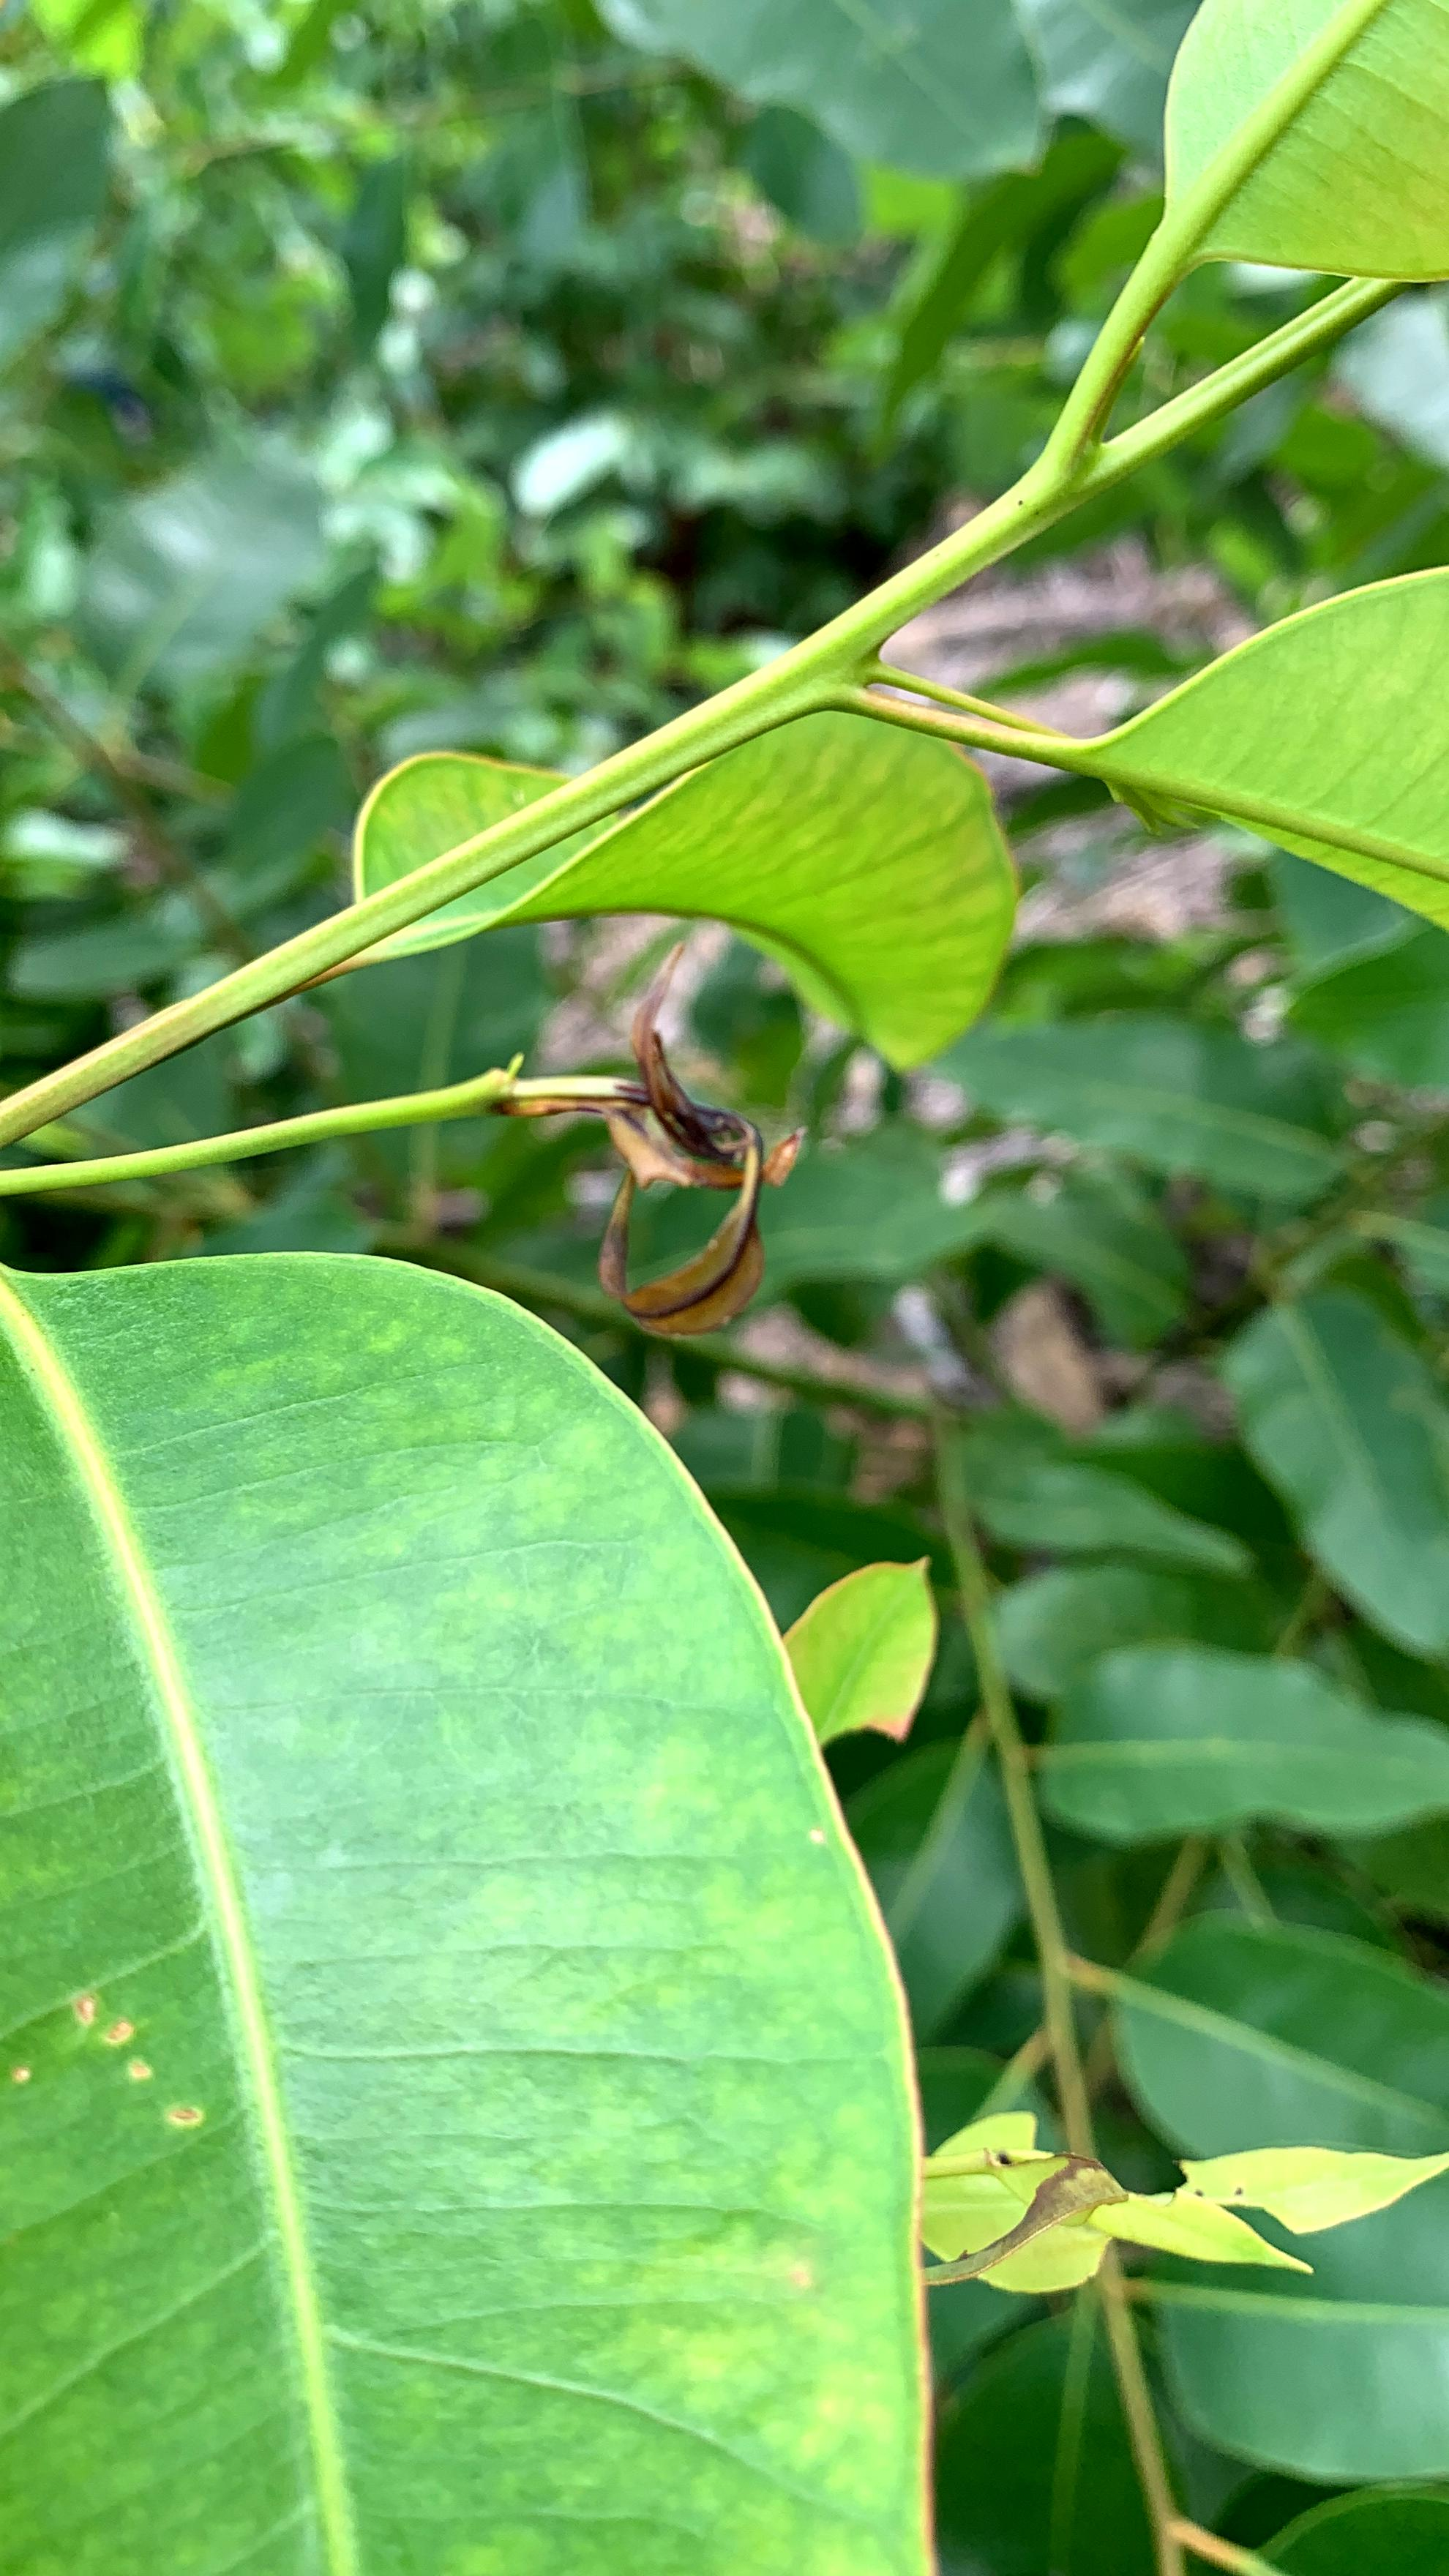Helopeltis-Withered Sprout: (564, 996, 826, 1352)
